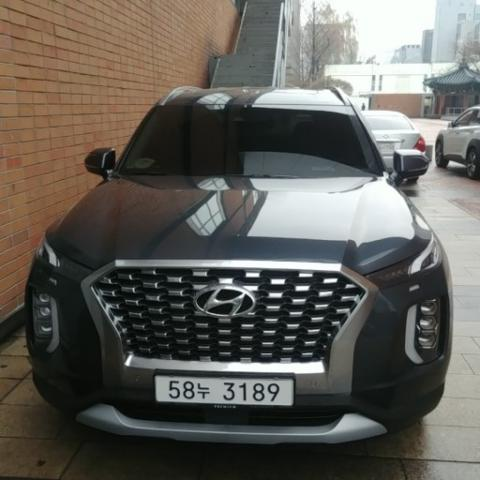LP: (147, 372, 304, 412)
